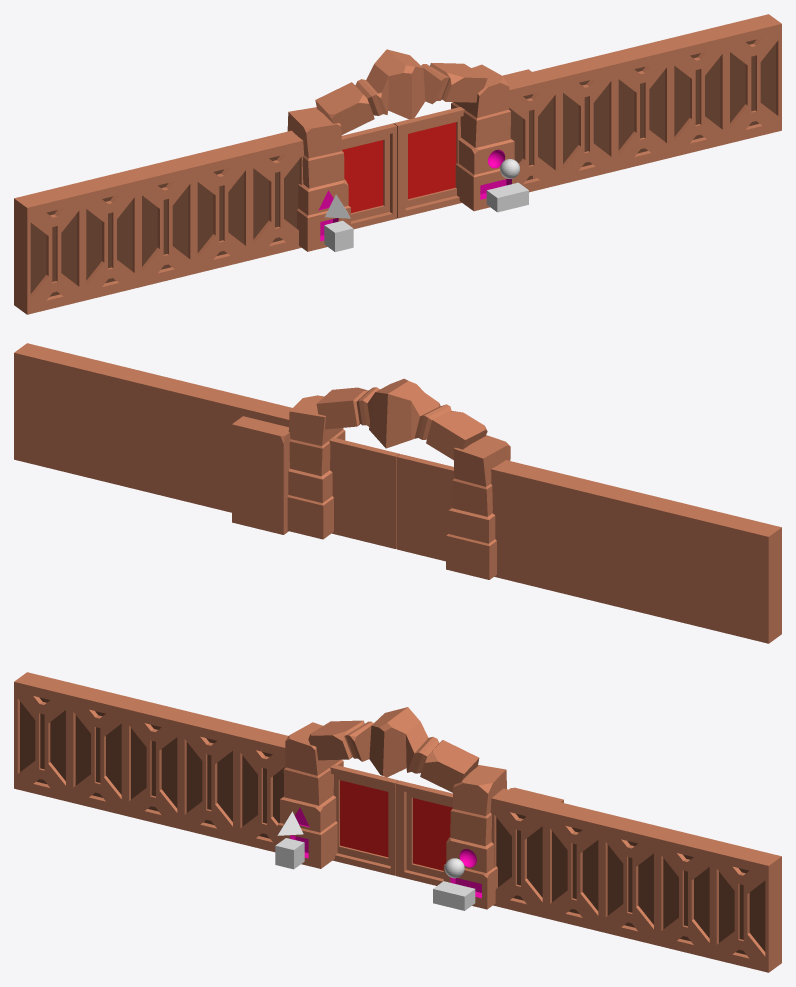
The model's file is PortalPedra.fbx.
3 views of the same model, one above another, from view 1: azimuth 30°, elevation 25°; view 2: azimuth 150°, elevation 25°; view 3: azimuth 330°, elevation 25° (orthographic).
Visible parts, largest first — view 1: Parde_Esquerda, Parde_Direita, PortalPedra, Porta1, Porta2, Retangulo, Quadrado; view 2: Parde_Esquerda, Parde_Direita, PortalPedra, Porta1, Cube, Porta2; view 3: Parde_Direita, Parde_Esquerda, PortalPedra, Porta2, Porta1, Retangulo, Quadrado.
Boxes of the visible parts, left/top/right/bottom form: Parde_Esquerda: left=14, top=130, right=303, bottom=314; Parde_Direita: left=505, top=14, right=781, bottom=192; PortalPedra: left=287, top=49, right=517, bottom=251; Porta1: left=393, top=107, right=464, bottom=218; Porta2: left=341, top=123, right=396, bottom=229; Retangulo: left=486, top=182, right=528, bottom=212; Quadrado: left=324, top=220, right=353, bottom=251; Parde_Esquerda: left=491, top=460, right=781, bottom=643; Parde_Direita: left=14, top=343, right=292, bottom=512; PortalPedra: left=287, top=378, right=510, bottom=579; Porta1: left=329, top=437, right=399, bottom=548; Cube: left=232, top=416, right=290, bottom=534; Porta2: left=396, top=454, right=454, bottom=561; Parde_Direita: left=490, top=788, right=781, bottom=972; Parde_Esquerda: left=14, top=672, right=288, bottom=852; PortalPedra: left=277, top=707, right=506, bottom=909; Porta2: left=329, top=764, right=399, bottom=875; Porta1: left=396, top=780, right=452, bottom=885; Retangulo: left=433, top=881, right=475, bottom=910; Quadrado: left=275, top=838, right=304, bottom=869.
Size of the model in its own units: 2283 by 465 by 286.
